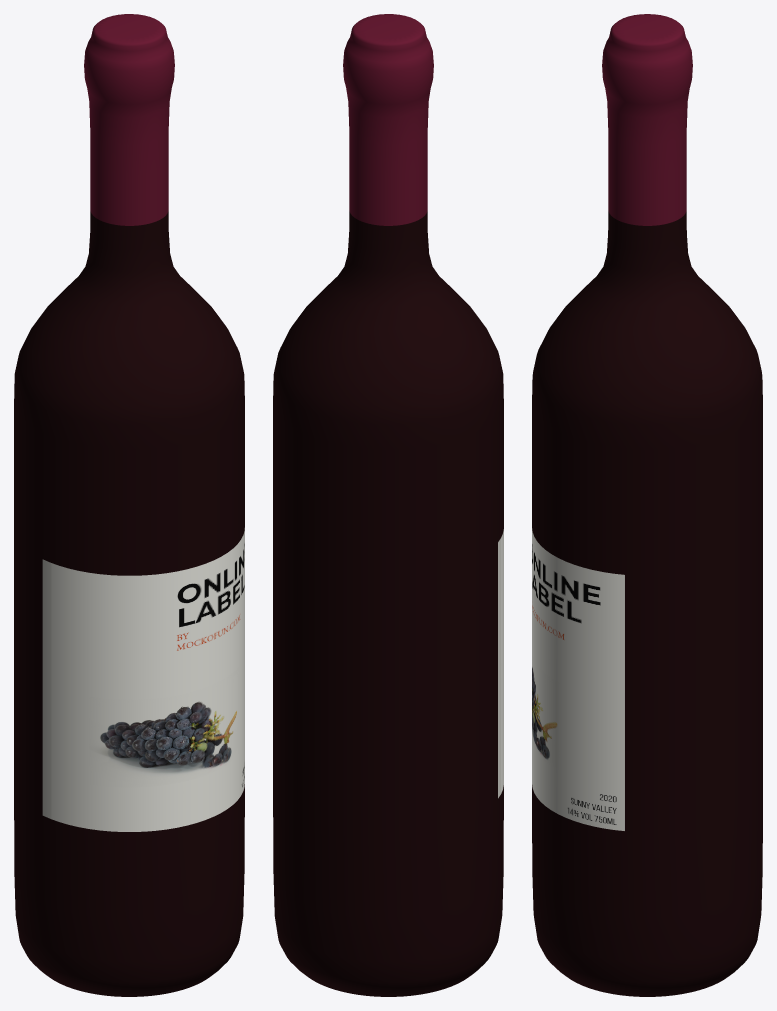
Rendered from 3d_wine_bottle_model.glb.
The picture shows the model from 3 angles, left to right: view 1: azimuth 30°, elevation 25°; view 2: azimuth 150°, elevation 25°; view 3: azimuth 270°, elevation 25°; orthographic projection.
Parts seen in each view (by area): view 1: Cylinder_2; view 2: Cylinder_2; view 3: Cylinder_2.
Boxes of the visible parts, x1,y1,x2,y2 form: Cylinder_2: [14, 14, 244, 996]; Cylinder_2: [273, 14, 503, 996]; Cylinder_2: [532, 14, 762, 996].
Size of the model in its own units: 0.9298 by 4.14 by 0.9298.
Materials: 3 (1 with a texture image).
